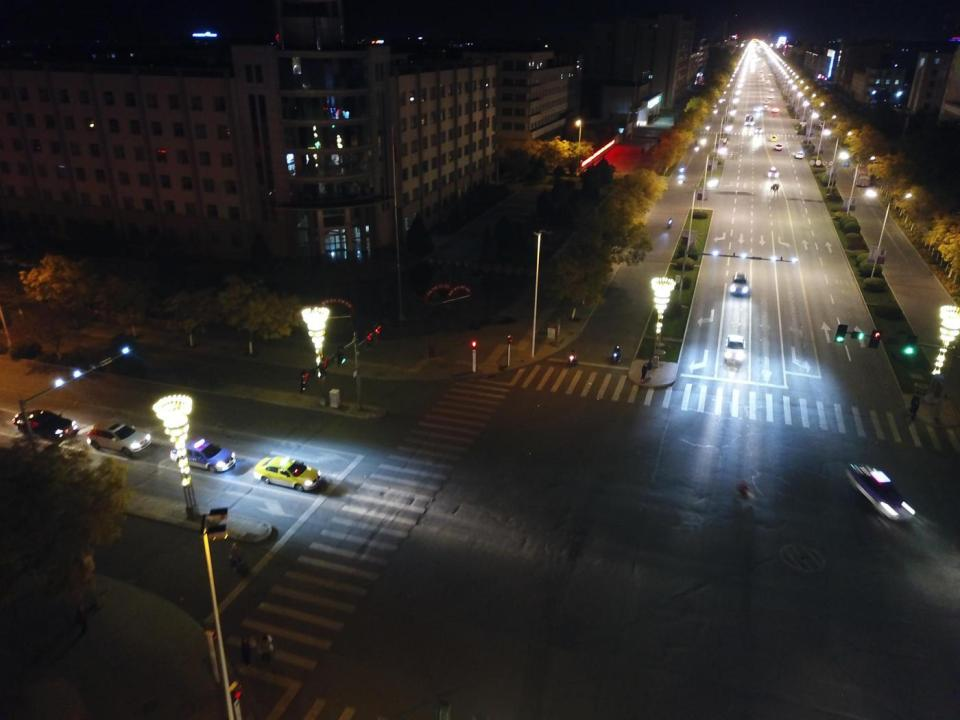bus: (853, 164, 871, 186), (744, 114, 754, 125)
car: (846, 462, 915, 523), (87, 421, 152, 459), (255, 456, 320, 490), (170, 437, 234, 471), (13, 408, 78, 440), (724, 335, 745, 363), (730, 274, 748, 298), (766, 166, 778, 178), (775, 144, 783, 152), (794, 151, 803, 158), (756, 126, 762, 134), (770, 135, 776, 142), (843, 160, 850, 166), (772, 106, 778, 112), (769, 87, 775, 93), (808, 107, 815, 112), (818, 124, 826, 128), (754, 106, 760, 111), (718, 97, 723, 102), (766, 80, 772, 84), (712, 103, 716, 108), (764, 100, 769, 104), (802, 98, 806, 103), (796, 88, 800, 93), (768, 94, 774, 97), (768, 73, 774, 76), (764, 106, 768, 110), (762, 62, 766, 66), (759, 69, 764, 72), (761, 78, 765, 81), (760, 74, 764, 77)
